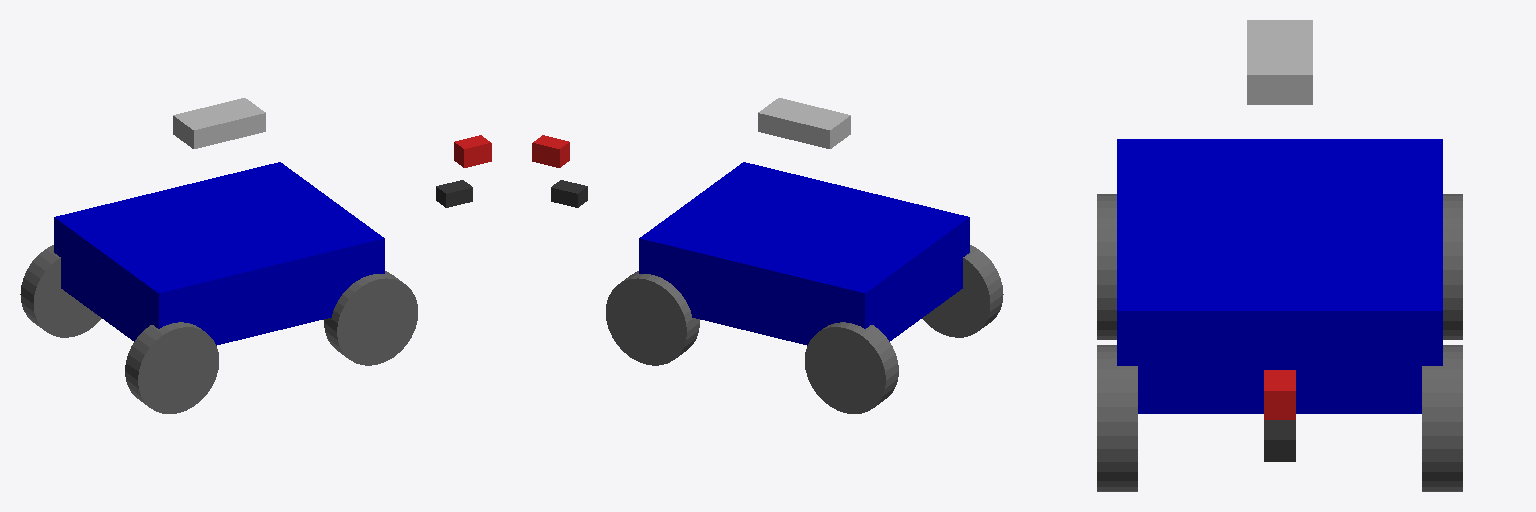
The robot description file, URDF, robot "lunabot_standard_fixed":
<?xml version="1.0"?>
<robot name="lunabot_standard_fixed">

  <!-- Materials -->
  <material name="blue"><color rgba="0 0 0.8 1"/></material>
  <material name="wheel_gray"><color rgba="0.45 0.45 0.45 1"/></material>
  <material name="sensor_gray"><color rgba="0.75 0.75 0.75 1"/></material>
  <material name="camera_red"><color rgba="0.85 0.15 0.15 1"/></material>
  <material name="dark_gray"><color rgba="0.25 0.25 0.25 1"/></material>

  <!-- ========== ROOT (base_footprint) ========== -->
  <link name="base_footprint">
    <inertial>
      <origin xyz="0 0 0" rpy="0 0 0"/>
      <mass value="0.1"/>
      <inertia ixx="0.0001" ixy="0" ixz="0" iyy="0.0001" iyz="0" izz="0.0001"/>
    </inertial>
  </link>

  <!-- ========== BASE LINK ========== -->
  <link name="base_link">
    <visual>
      <origin xyz="0 0 0.02" rpy="0 0 0"/>
      <geometry><box size="0.50 0.40 0.14"/></geometry>
      <material name="blue"/>
    </visual>
    <collision>
      <origin xyz="0 0 0.02" rpy="0 0 0"/>
      <geometry><box size="0.50 0.40 0.14"/></geometry>
    </collision>
    <inertial>
      <origin xyz="0 0 0.02" rpy="0 0 0"/>
      <mass value="12.0"/>
      <inertia ixx="0.12" ixy="0" ixz="0" iyy="0.12" iyz="0" izz="0.12"/>
    </inertial>
  </link>

  <joint name="basefootprint_to_baselink" type="fixed">
    <parent link="base_footprint"/>
    <child  link="base_link"/>
    <origin xyz="0 0 0" rpy="0 0 0"/>
  </joint>

  <!-- ========== WHEELS ========== -->
  <link name="wheel_FL">
    <visual><origin xyz="0 0 0" rpy="1.5708 0 0"/><geometry><cylinder radius="0.09" length="0.05"/></geometry><material name="wheel_gray"/></visual>
    <collision><origin xyz="0 0 0" rpy="1.5708 0 0"/><geometry><cylinder radius="0.09" length="0.05"/></geometry></collision>
    <inertial><origin xyz="0 0 0"/><mass value="0.7"/><inertia ixx="0.001" ixy="0" ixz="0" iyy="0.001" iyz="0" izz="0.001"/></inertial>
  </link>
  <joint name="joint_wheel_FL" type="continuous">
    <parent link="base_link"/><child link="wheel_FL"/>
    <origin xyz="0.22 0.20 -0.07" rpy="0 0 0"/><axis xyz="0 1 0"/>
    <limit effort="5.0" velocity="10.0"/><dynamics damping="0.1" friction="0.0"/>
  </joint>

  <link name="wheel_FR">
    <visual><origin xyz="0 0 0" rpy="1.5708 0 0"/><geometry><cylinder radius="0.09" length="0.05"/></geometry><material name="wheel_gray"/></visual>
    <collision><origin xyz="0 0 0" rpy="1.5708 0 0"/><geometry><cylinder radius="0.09" length="0.05"/></geometry></collision>
    <inertial><mass value="0.7"/><inertia ixx="0.001" ixy="0" ixz="0" iyy="0.001" iyz="0" izz="0.001"/></inertial>
  </link>
  <joint name="joint_wheel_FR" type="continuous">
    <parent link="base_link"/><child link="wheel_FR"/>
    <origin xyz="0.22 -0.20 -0.07" rpy="0 0 0"/><axis xyz="0 1 0"/>
    <limit effort="5.0" velocity="10.0"/><dynamics damping="0.1" friction="0.0"/>
  </joint>

  <link name="wheel_RL">
    <visual><origin xyz="0 0 0" rpy="1.5708 0 0"/><geometry><cylinder radius="0.09" length="0.05"/></geometry><material name="wheel_gray"/></visual>
    <collision><origin xyz="0 0 0" rpy="1.5708 0 0"/><geometry><cylinder radius="0.09" length="0.05"/></geometry></collision>
    <inertial><mass value="0.7"/><inertia ixx="0.001" ixy="0" ixz="0" iyy="0.001" iyz="0" izz="0.001"/></inertial>
  </link>
  <joint name="joint_wheel_RL" type="continuous">
    <parent link="base_link"/><child link="wheel_RL"/>
    <origin xyz="-0.22 0.20 -0.07" rpy="0 0 0"/><axis xyz="0 1 0"/>
    <limit effort="5.0" velocity="10.0"/><dynamics damping="0.1" friction="0.0"/>
  </joint>

  <link name="wheel_RR">
    <visual><origin xyz="0 0 0" rpy="1.5708 0 0"/><geometry><cylinder radius="0.09" length="0.05"/></geometry><material name="wheel_gray"/></visual>
    <collision><origin xyz="0 0 0" rpy="1.5708 0 0"/><geometry><cylinder radius="0.09" length="0.05"/></geometry></collision>
    <inertial><mass value="0.7"/><inertia ixx="0.001" ixy="0" ixz="0" iyy="0.001" iyz="0" izz="0.001"/></inertial>
  </link>
  <joint name="joint_wheel_RR" type="continuous">
    <parent link="base_link"/><child link="wheel_RR"/>
    <origin xyz="-0.22 -0.20 -0.07" rpy="0 0 0"/><axis xyz="0 1 0"/>
    <limit effort="5.0" velocity="10.0"/><dynamics damping="0.1" friction="0.0"/>
  </joint>

  <!-- ========== LIDAR ========== -->
  <link name="lidar_link">
    <visual><origin xyz="0 0 0.155" rpy="0 0 0"/><geometry><box size="0.16 0.08 0.04"/></geometry><material name="sensor_gray"/></visual>
    <collision><origin xyz="0 0 0.155" rpy="0 0 0"/><geometry><box size="0.16 0.08 0.04"/></geometry></collision>
    <inertial><origin xyz="0 0 0.155"/><mass value="0.5"/><inertia ixx="0.0015" ixy="0" ixz="0" iyy="0.0015" iyz="0" izz="0.0015"/></inertial>
  </link>
  <joint name="joint_lidar" type="fixed">
    <parent link="base_link"/><child link="lidar_link"/><origin xyz="0 0 0.155" rpy="0 0 0"/>
  </joint>

  <!-- alias: base_scan (child of lidar) -->
  <link name="base_scan"/>
  <joint name="lidar_to_base_scan" type="fixed">
    <parent link="lidar_link"/>
    <child  link="base_scan"/>
    <origin xyz="0 0 0" rpy="0 0 0"/>
  </joint>

  <!-- ========== RGB CAMERA ========== -->
  <link name="camera_link">
    <visual><origin xyz="0.28 0 0.06" rpy="0 0 0"/><geometry><box size="0.06 0.04 0.04"/></geometry><material name="camera_red"/></visual>
    <collision><origin xyz="0.28 0 0.06" rpy="0 0 0"/><geometry><box size="0.06 0.04 0.04"/></geometry></collision>
    <inertial><origin xyz="0.28 0 0.06"/><mass value="0.12"/><inertia ixx="0.0004" ixy="0" ixz="0" iyy="0.0004" iyz="0" izz="0.0004"/></inertial>
  </link>
  <joint name="camera_link_joint" type="fixed">
    <parent link="base_link"/><child link="camera_link"/><origin xyz="0.28 0 0.06" rpy="0 0 0"/>
  </joint>

  <link name="camera_optical_frame"/>
  <joint name="camera_link_to_optical" type="fixed">
    <parent link="camera_link"/><child link="camera_optical_frame"/><origin xyz="0 0 0" rpy="-1.5708 0 0"/>
  </joint>

  <!-- ========== DEPTH CAMERA ========== -->
  <link name="camera_depth">
    <visual><origin xyz="0.26 0 0.02" rpy="0 0 0"/><geometry><box size="0.06 0.04 0.03"/></geometry><material name="dark_gray"/></visual>
    <collision><origin xyz="0.26 0 0.02" rpy="0 0 0"/><geometry><box size="0.06 0.04 0.03"/></geometry></collision>
    <inertial><origin xyz="0.26 0 0.02"/><mass value="0.12"/><inertia ixx="0.0003" ixy="0" ixz="0" iyy="0.0003" iyz="0" izz="0.0003"/></inertial>
  </link>
  <joint name="camera_depth_joint" type="fixed">
    <parent link="base_link"/><child link="camera_depth"/><origin xyz="0.26 0 0.02" rpy="0 0 0"/>
  </joint>

  <link name="camera_depth_frame"/>
  <joint name="camera_depth_to_frame" type="fixed">
    <parent link="camera_depth"/><child link="camera_depth_frame"/><origin xyz="0 0 0" rpy="0 0 0"/>
  </joint>

  <link name="camera_depth_optical_frame"/>
  <joint name="camera_depth_frame_to_optical" type="fixed">
    <parent link="camera_depth_frame"/><child link="camera_depth_optical_frame"/><origin xyz="0 0 0" rpy="-1.5708 0 0"/>
  </joint>

  <!-- ========== IMU ========== -->
  <link name="imu_link">
    <visual><origin xyz="0 0 0.03"/><geometry><sphere radius="0.02"/></geometry><material name="dark_gray"/></visual>
    <inertial><origin xyz="0 0 0.03"/><mass value="0.05"/><inertia ixx="0.00001" ixy="0" ixz="0" iyy="0.00001" iyz="0" izz="0.00001"/></inertial>
  </link>
  <joint name="imu_joint" type="fixed">
    <parent link="base_link"/><child link="imu_link"/><origin xyz="0 0 0.03" rpy="0 0 0"/>
  </joint>

  <!-- ========== WHEEL FRICTION (Gazebo) ========== -->
  <gazebo reference="wheel_FL"><surface><friction><ode><mu>1.0</mu><mu2>1.0</mu2></ode></friction></surface></gazebo>
  <gazebo reference="wheel_FR"><surface><friction><ode><mu>1.0</mu><mu2>1.0</mu2></ode></friction></surface></gazebo>
  <gazebo reference="wheel_RL"><surface><friction><ode><mu>1.0</mu><mu2>1.0</mu2></ode></friction></surface></gazebo>
  <gazebo reference="wheel_RR"><surface><friction><ode><mu>1.0</mu><mu2>1.0</mu2></ode></friction></surface></gazebo>

  <!-- ========== SENSORS (Ignition placeholders) ========== -->
  <gazebo reference="lidar_link">
    <pose>0 0 0.155 0 0 0</pose>
    <sensor type="ray" name="lidar_sensor">
      <pose>0 0 0 0 0 0</pose>
      <ray>
        <scan><horizontal><samples>360</samples><resolution>1</resolution><min_angle>-1.5708</min_angle><max_angle>1.5708</max_angle></horizontal></scan>
        <range><min>0.05</min><max>30.0</max></range>
      </ray>
      <plugin filename="libignition-gazebo-systems-sensors.so" name="ignition::gazebo::systems::Ray"/>
    </sensor>
  </gazebo>

  <gazebo reference="camera_link">
    <pose>0.28 0 0.06 0 0 0</pose>
    <sensor type="camera" name="camera_rgb_sensor">
      <camera><horizontal_fov>1.047</horizontal_fov><image><width>640</width><height>480</height><format>R8G8B8</format></image><clip><near>0.01</near><far>100</far></clip></camera>
      <update_rate>30</update_rate>
      <plugin filename="libignition-gazebo-systems-sensors.so" name="ignition::gazebo::systems::Camera"/>
    </sensor>
  </gazebo>

  <gazebo reference="camera_depth">
    <pose>0.26 0 0.02 0 0 0</pose>
    <sensor type="depth" name="camera_depth_sensor">
      <camera><horizontal_fov>1.047</horizontal_fov><image><width>640</width><height>480</height><format>R8G8B8</format></image><clip><near>0.01</near><far>20</far></clip></camera>
      <update_rate>30</update_rate>
      <plugin filename="libignition-gazebo-systems-sensors.so" name="ignition::gazebo::systems::DepthCamera"/>
    </sensor>
  </gazebo>

  <gazebo reference="imu_link">
    <pose>0 0 0.03 0 0 0</pose>
    <sensor type="imu" name="imu_sensor">
      <always_on>1</always_on>
      <update_rate>200</update_rate>
      <plugin filename="libignition-gazebo-systems-sensors.so" name="ignition::gazebo::systems::Imu"/>
    </sensor>
  </gazebo>

  <!-- ========== DIFF-DRIVE PLUGIN (Ignition placeholder) ========== -->
  <gazebo>
    <plugin filename="libignition-gazebo-diff-drive-system.so" name="ignition::gazebo::systems::DifferentialDrive">
      <left_wheels><wheel>joint_wheel_FL</wheel><wheel>joint_wheel_RL</wheel></left_wheels>
      <right_wheels><wheel>joint_wheel_FR</wheel><wheel>joint_wheel_RR</wheel></right_wheels>
      <wheel_separation>0.40</wheel_separation>
      <wheel_radius>0.09</wheel_radius>
      <cmd_vel_topic>cmd_vel</cmd_vel_topic>
      <odom_topic>odom</odom_topic>
      <publish_odometry>true</publish_odometry>
      <max_wheel_speed>10.0</max_wheel_speed>
      <wheel_accel>5.0</wheel_accel>
    </plugin>
  </gazebo>

</robot>

--- Render facts (derived) ---
3 views of the same robot in one strip: view 1: azimuth 30°, elevation 25°; view 2: azimuth 150°, elevation 25°; view 3: azimuth 270°, elevation 25° (orthographic).
Model lunabot_standard_fixed with 14 links and 13 joints (4 continuous, 9 fixed), rooted at base_footprint, posed every joint at zero.
Links seen in each view (by area): view 1: base_link, wheel_RR, wheel_FR, wheel_RL, lidar_link, camera_link, camera_depth; view 2: base_link, wheel_RL, wheel_FL, wheel_RR, lidar_link, camera_link, camera_depth; view 3: base_link, lidar_link, wheel_FL, wheel_FR, wheel_RL, wheel_RR, camera_link, camera_depth.
Link boxes in pixels (<box>): base_link: <box>54,162,384,345</box>; wheel_RR: <box>125,322,218,413</box>; wheel_FR: <box>324,271,417,365</box>; wheel_RL: <box>20,245,101,337</box>; lidar_link: <box>173,98,265,148</box>; camera_link: <box>454,135,491,167</box>; camera_depth: <box>436,180,472,207</box>; base_link: <box>639,162,969,345</box>; wheel_RL: <box>805,322,898,413</box>; wheel_FL: <box>606,271,699,365</box>; wheel_RR: <box>922,245,1003,337</box>; lidar_link: <box>758,98,850,148</box>; camera_link: <box>532,135,569,167</box>; camera_depth: <box>551,180,587,207</box>; base_link: <box>1117,139,1442,413</box>; lidar_link: <box>1247,20,1312,104</box>; wheel_FL: <box>1422,345,1462,491</box>; wheel_FR: <box>1097,345,1137,491</box>; wheel_RL: <box>1443,194,1462,339</box>; wheel_RR: <box>1097,194,1116,339</box>; camera_link: <box>1264,370,1295,419</box>; camera_depth: <box>1264,420,1295,461</box>.
Size in the robot's own frame: 0.9 by 0.45 by 0.49 metres.
Geometry: primitives only (box / cylinder / sphere), no mesh files.
